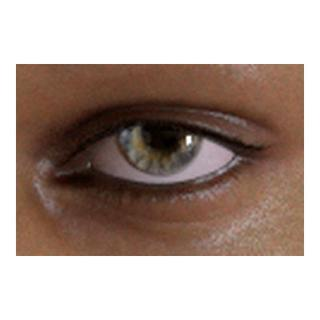pupil: (142, 113, 178, 149)
